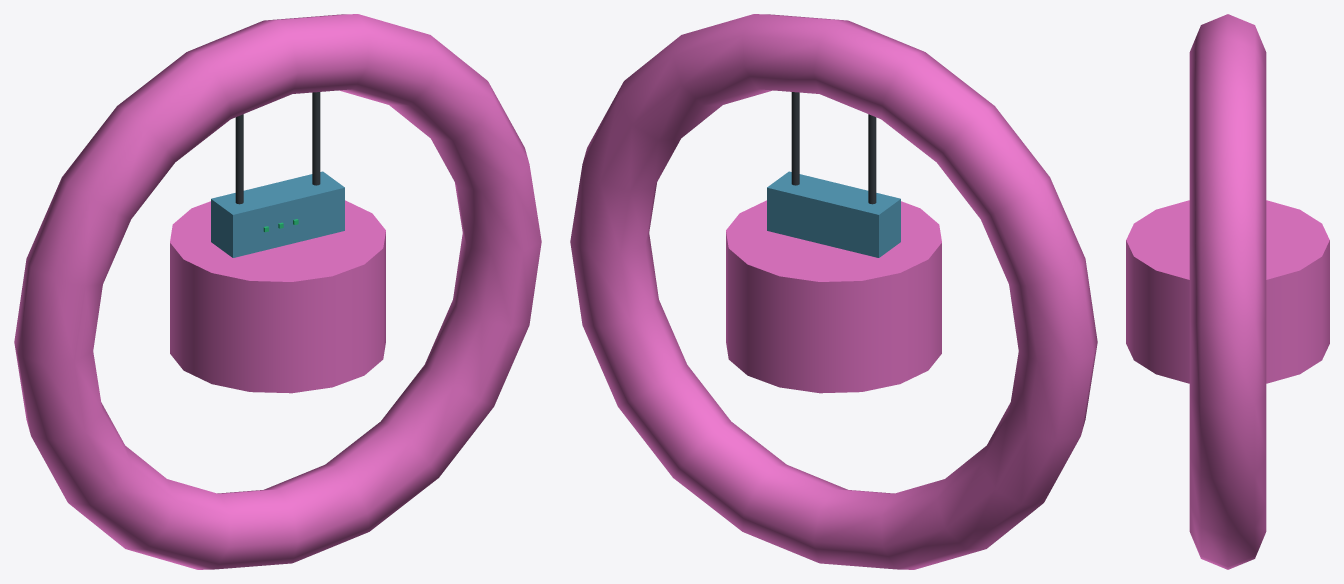
3 views of the same model, side by side, from view 1: azimuth 30°, elevation 25°; view 2: azimuth 150°, elevation 25°; view 3: azimuth 270°, elevation 25° (orthographic). The views are drawn at different scales.
Visible parts, largest first — view 1: visualHandle, object 10, case, antenna1, antenna0; view 2: visualHandle, object 10, case, antenna1, antenna0; view 3: visualHandle, object 10.
Part boxes in pixels (left/top/right/bottom): visualHandle: left=14, top=14, right=541, bottom=569; object 10: left=170, top=200, right=385, bottom=393; case: left=211, top=171, right=344, bottom=257; antenna1: left=312, top=92, right=320, bottom=185; antenna0: left=235, top=114, right=243, bottom=204; visualHandle: left=570, top=14, right=1097, bottom=569; object 10: left=726, top=200, right=941, bottom=393; case: left=767, top=171, right=900, bottom=257; antenna1: left=791, top=92, right=799, bottom=185; antenna0: left=868, top=114, right=876, bottom=204; visualHandle: left=1189, top=14, right=1266, bottom=569; object 10: left=1126, top=200, right=1329, bottom=383.
Size of the model in its own units: 0.88 by 0.88 by 0.32.
